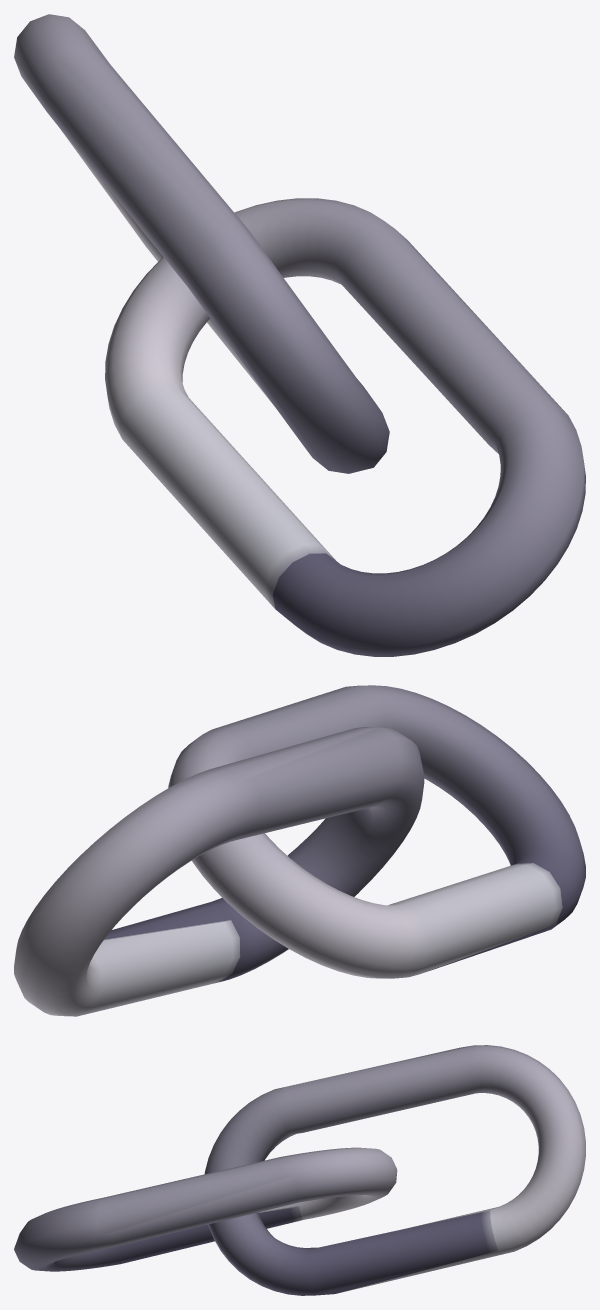
File: chain2.glb
3 renders of one model, top to bottom at view 1: azimuth 30°, elevation 25°; view 2: azimuth 150°, elevation 25°; view 3: azimuth 270°, elevation 25°, orthographic. The views are drawn at different scales.
Parts seen in each view (by area): view 1: Torus.001; view 2: Torus.001; view 3: Torus.001.
Part boxes in pixels (<box>): Torus.001: <box>14,14,585,656</box>; Torus.001: <box>14,685,585,1016</box>; Torus.001: <box>14,1045,585,1295</box>.
Bounding box in the file's own units: 2.39 × 3.03 × 6.85.
Materials: 1 (1 with a texture image).
